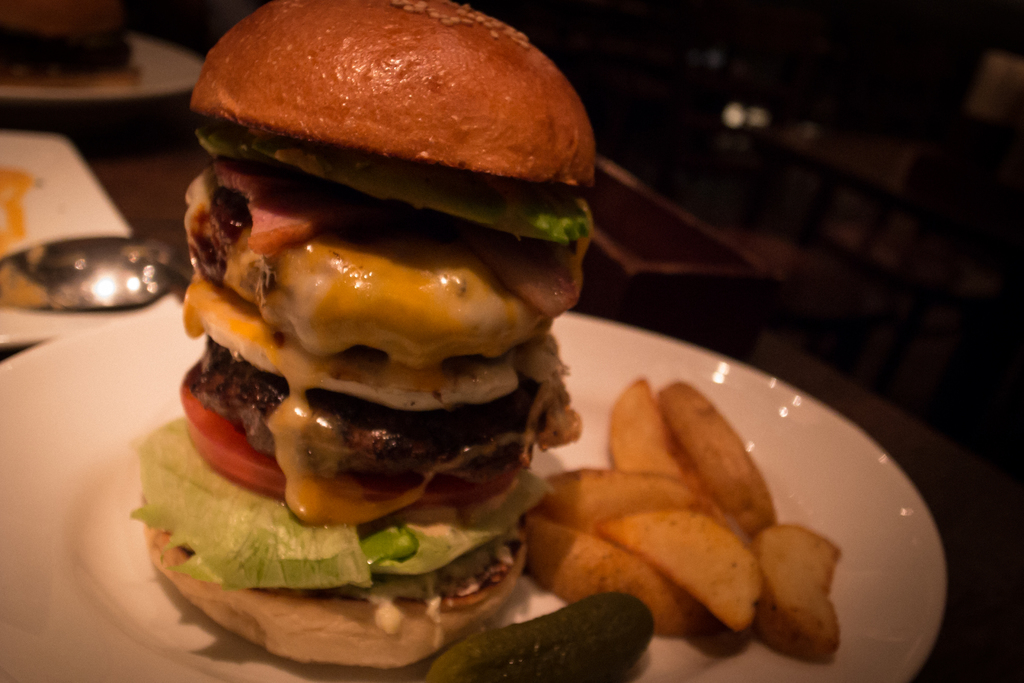Hamburger: (125, 0, 591, 672)
